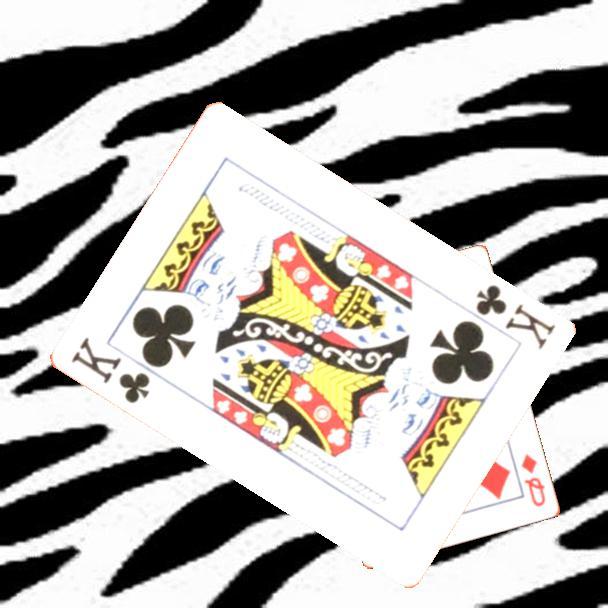c13: (67, 333, 153, 407), (472, 281, 558, 352)
d12: (518, 451, 549, 510)
